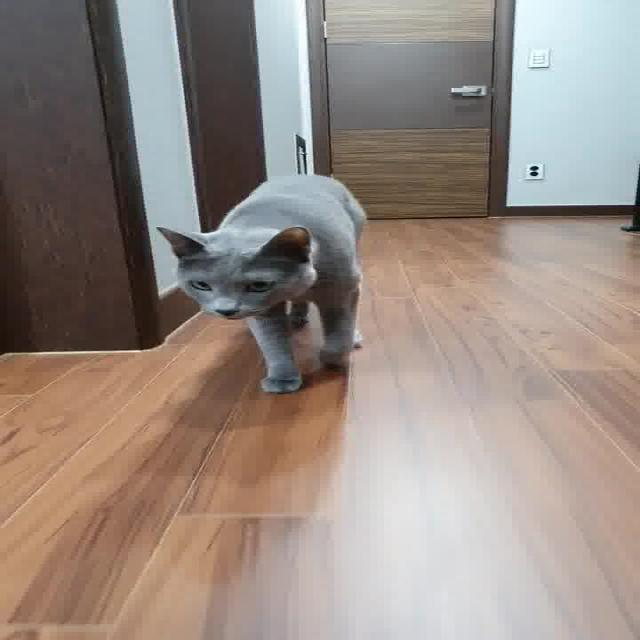cat: (129, 136, 425, 416)
